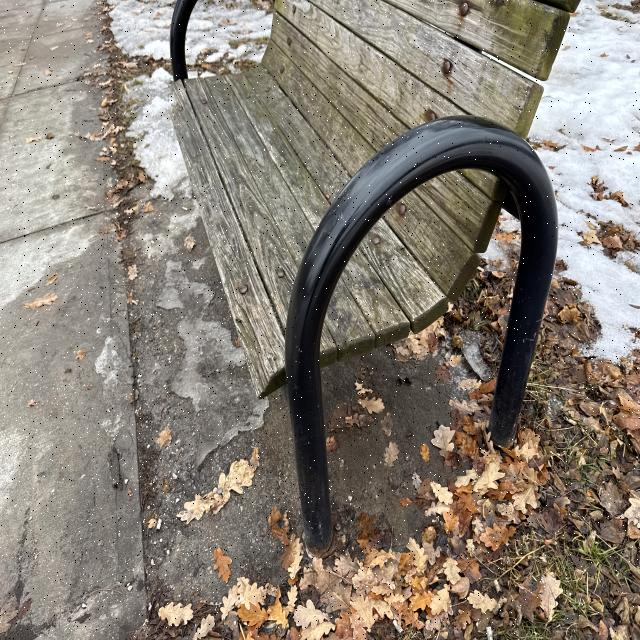Bench: (177, 6, 575, 540)
